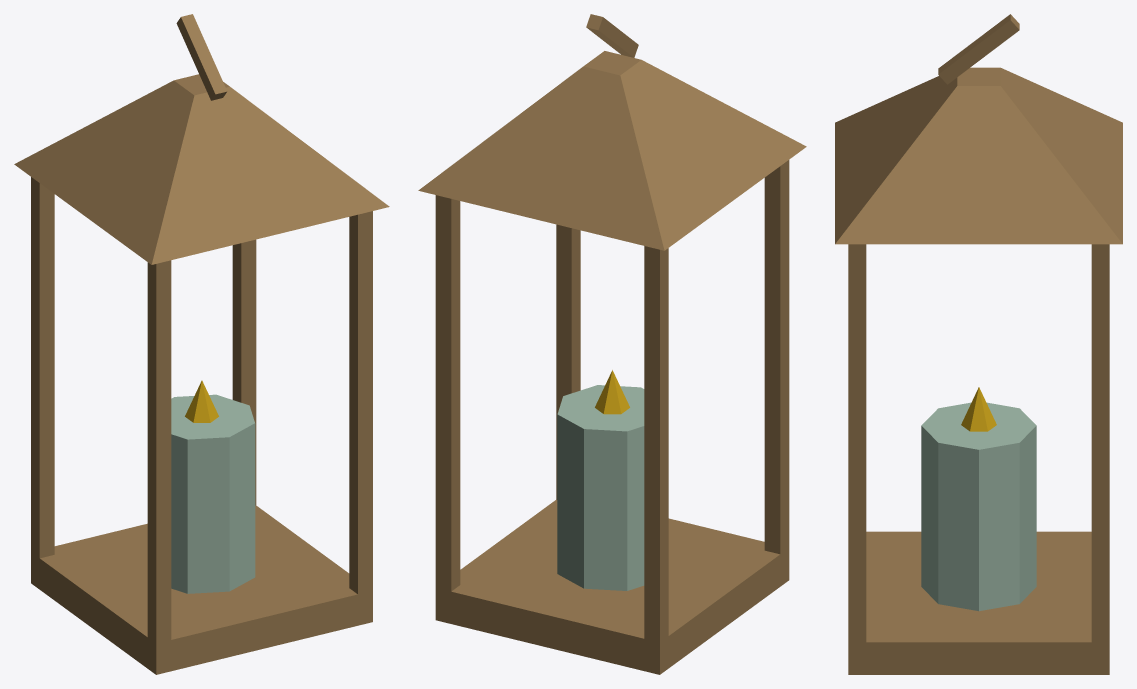
File: candle-holder-22.glb
The picture shows the model from 3 angles, left to right: view 1: azimuth 30°, elevation 25°; view 2: azimuth 150°, elevation 25°; view 3: azimuth 270°, elevation 25°; orthographic projection. The views are drawn at different scales.
Visible parts, largest first — view 1: candle_holder_22; view 2: candle_holder_22; view 3: candle_holder_22.
Part boxes in pixels (x1,y1,x2,y2): candle_holder_22: [14, 14, 389, 674]; candle_holder_22: [418, 14, 806, 674]; candle_holder_22: [835, 14, 1122, 674].
Bounding box in the file's own units: 0.2387 × 0.5515 × 0.2387.
